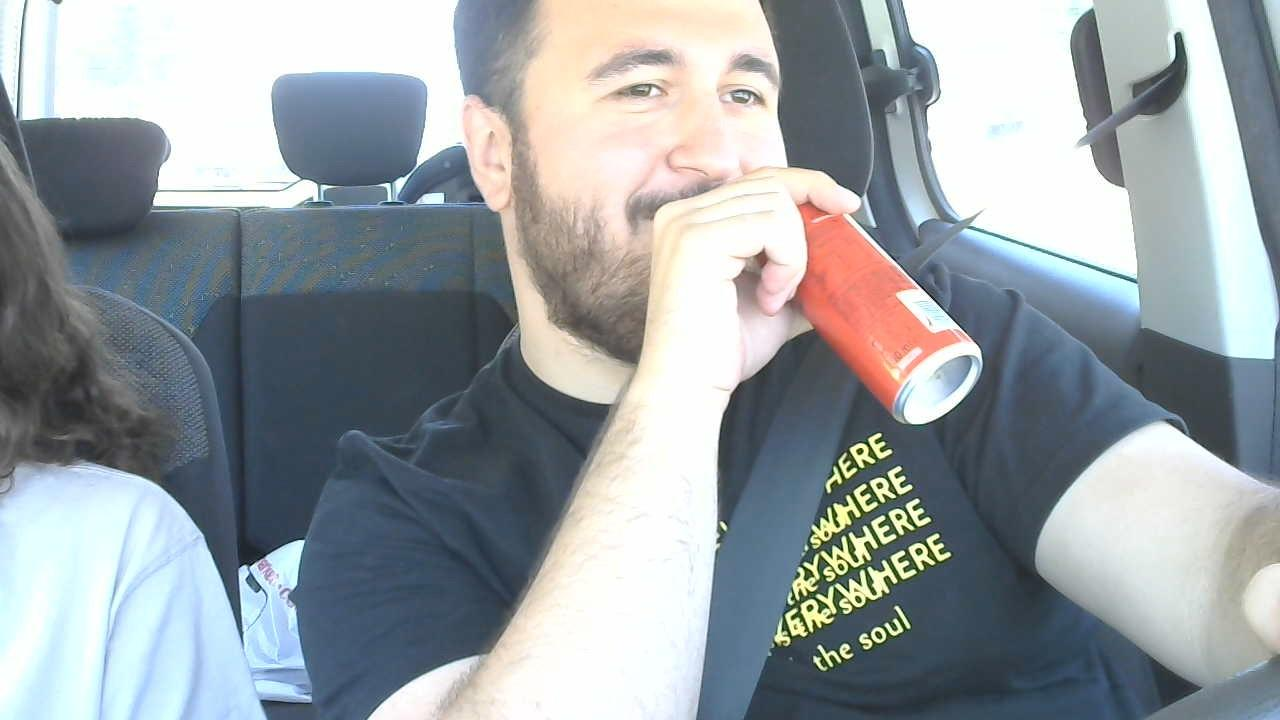Drinking: (743, 164, 984, 429)
